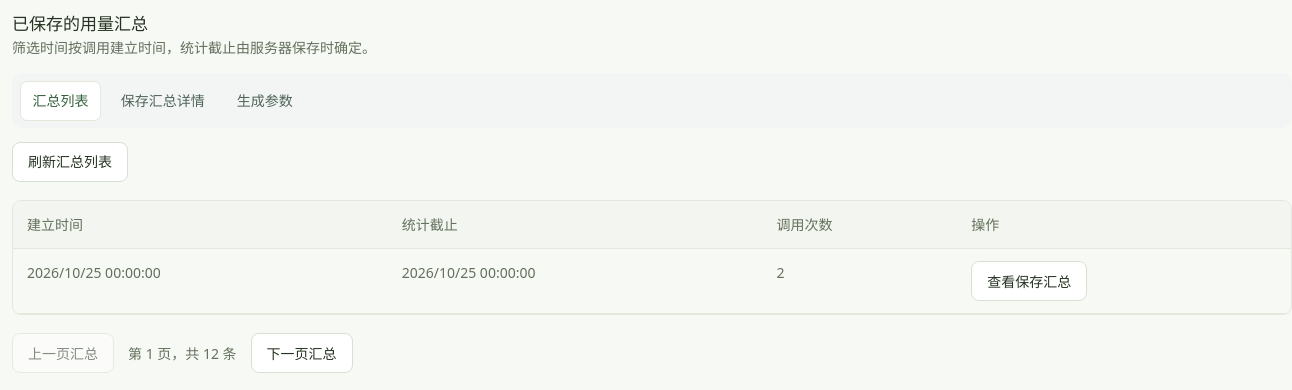
aborts an unfinished detail GET when moving to another saved-summary view
Step 1. Click the button "查看保存汇总" → (1029, 281), box [971,261,1087,301]
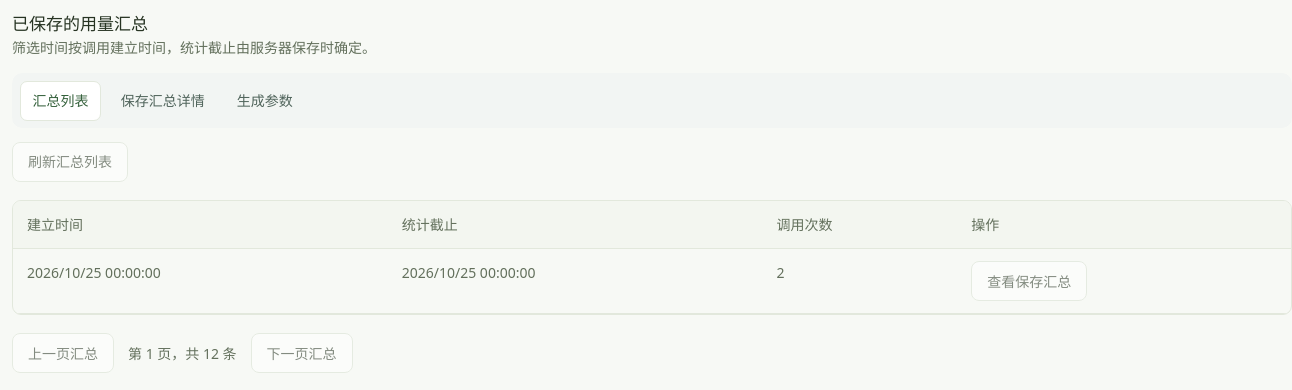
Step 2. Click the button "生成参数" → (265, 101), box [224,81,306,121]
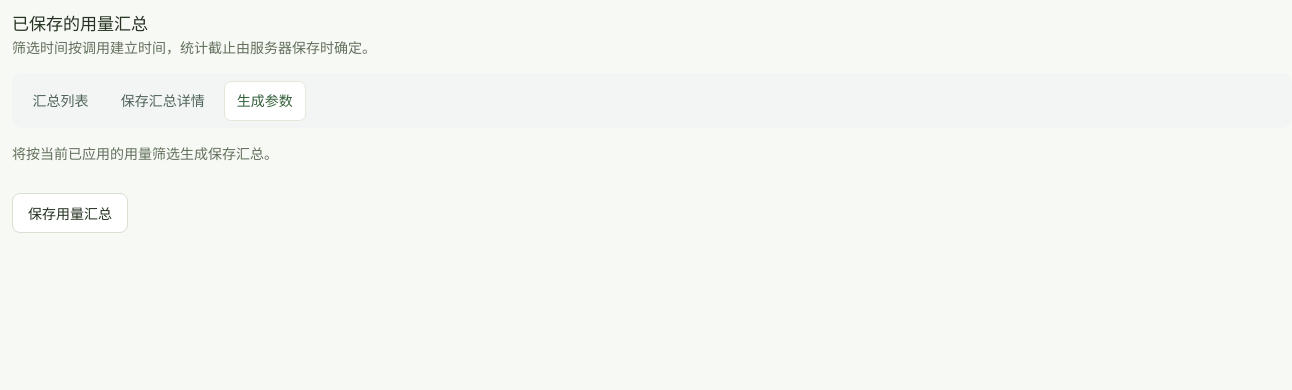
Now the button "保存用量汇总" is enabled, box [12,193,128,233]
